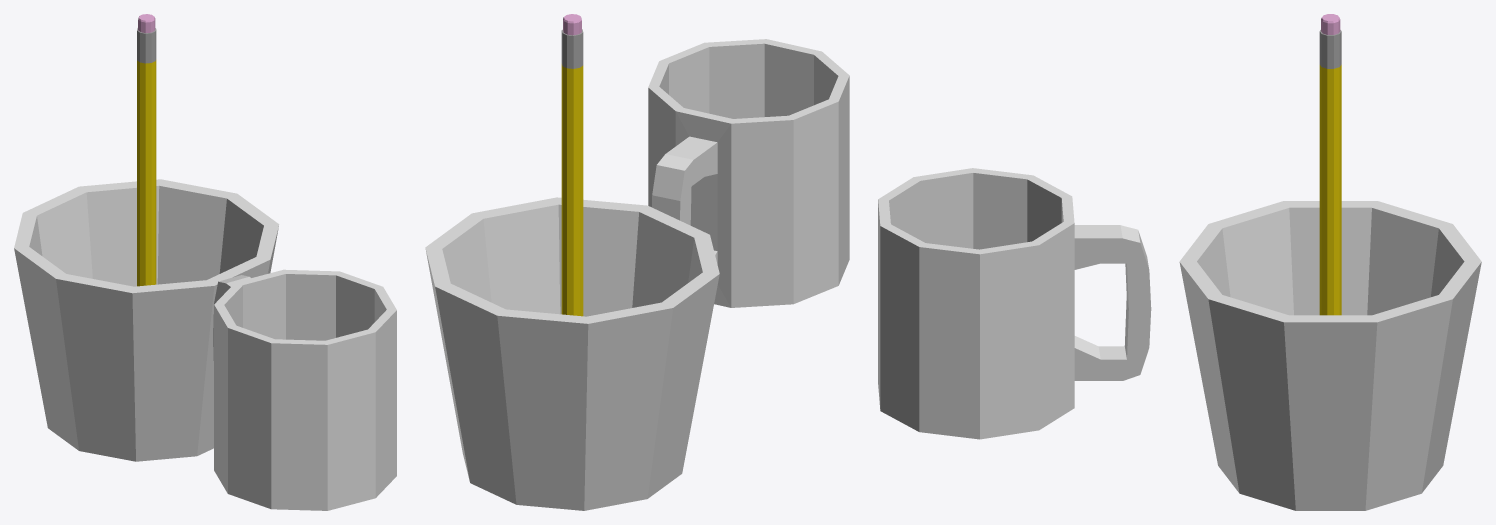
File: random1.fbx
3 views of the same model, side by side, from view 1: azimuth 30°, elevation 25°; view 2: azimuth 150°, elevation 25°; view 3: azimuth 270°, elevation 25° (orthographic). The views are drawn at different scales.
Parts seen in each view (by area): view 1: Cylinder, Cylinder.002, Cylinder.001; view 2: Cylinder, Cylinder.002, Cylinder.001; view 3: Cylinder, Cylinder.002, Cylinder.001.
Boxes of the visible parts, box(x1,y1,x2,y2) form: Cylinder: box(14, 179, 279, 461); Cylinder.002: box(213, 269, 396, 510); Cylinder.001: box(137, 14, 156, 286); Cylinder: box(425, 197, 719, 510); Cylinder.002: box(648, 39, 849, 307); Cylinder.001: box(561, 14, 583, 316); Cylinder: box(1179, 201, 1481, 510); Cylinder.002: box(878, 168, 1151, 439); Cylinder.001: box(1319, 14, 1341, 315).
Bounding box in the file's own units: 56.3 × 96.8 × 118.
